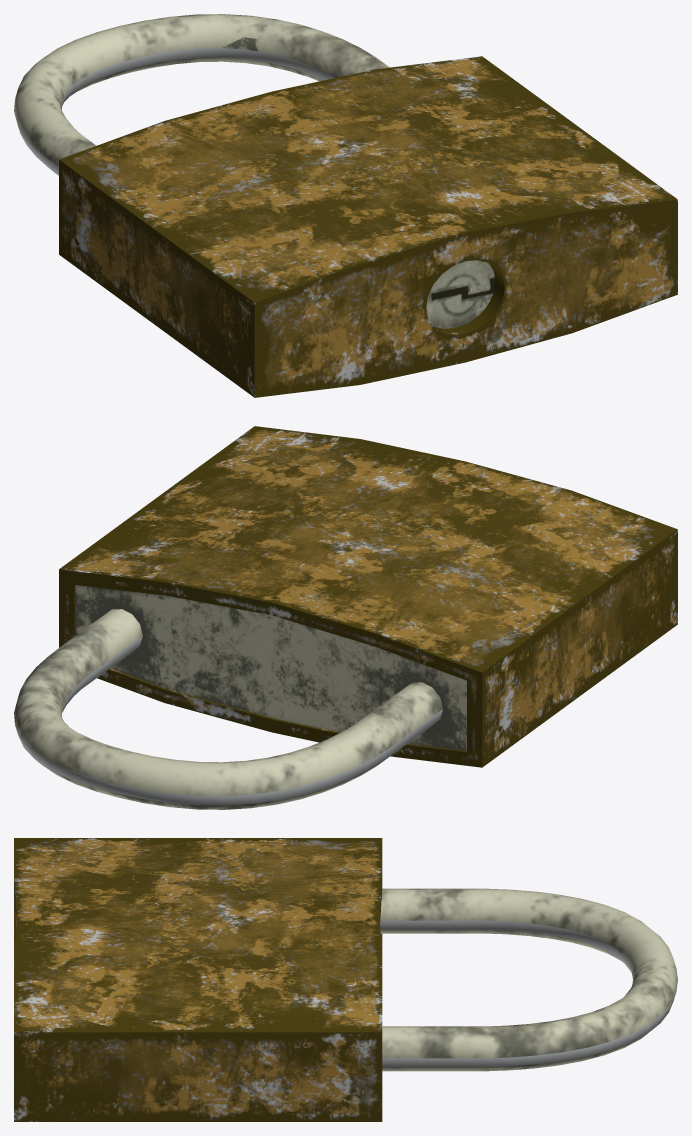
The model's file is lock.fbx.
3 views of the same model, one above another, from view 1: azimuth 30°, elevation 25°; view 2: azimuth 150°, elevation 25°; view 3: azimuth 270°, elevation 25° (orthographic). The views are drawn at different scales.
Visible parts, largest first — view 1: base_low, top_low; view 2: base_low, top_low; view 3: base_low, top_low.
Part boxes in pixels (box(x1,y1,x2,y2)): base_low: box(59, 56, 677, 397); top_low: box(14, 14, 389, 175); base_low: box(59, 426, 677, 767); top_low: box(14, 609, 442, 809); base_low: box(14, 838, 382, 1121); top_low: box(380, 888, 677, 1071).
Size of the model in its own units: 138 by 40.61 by 200.
